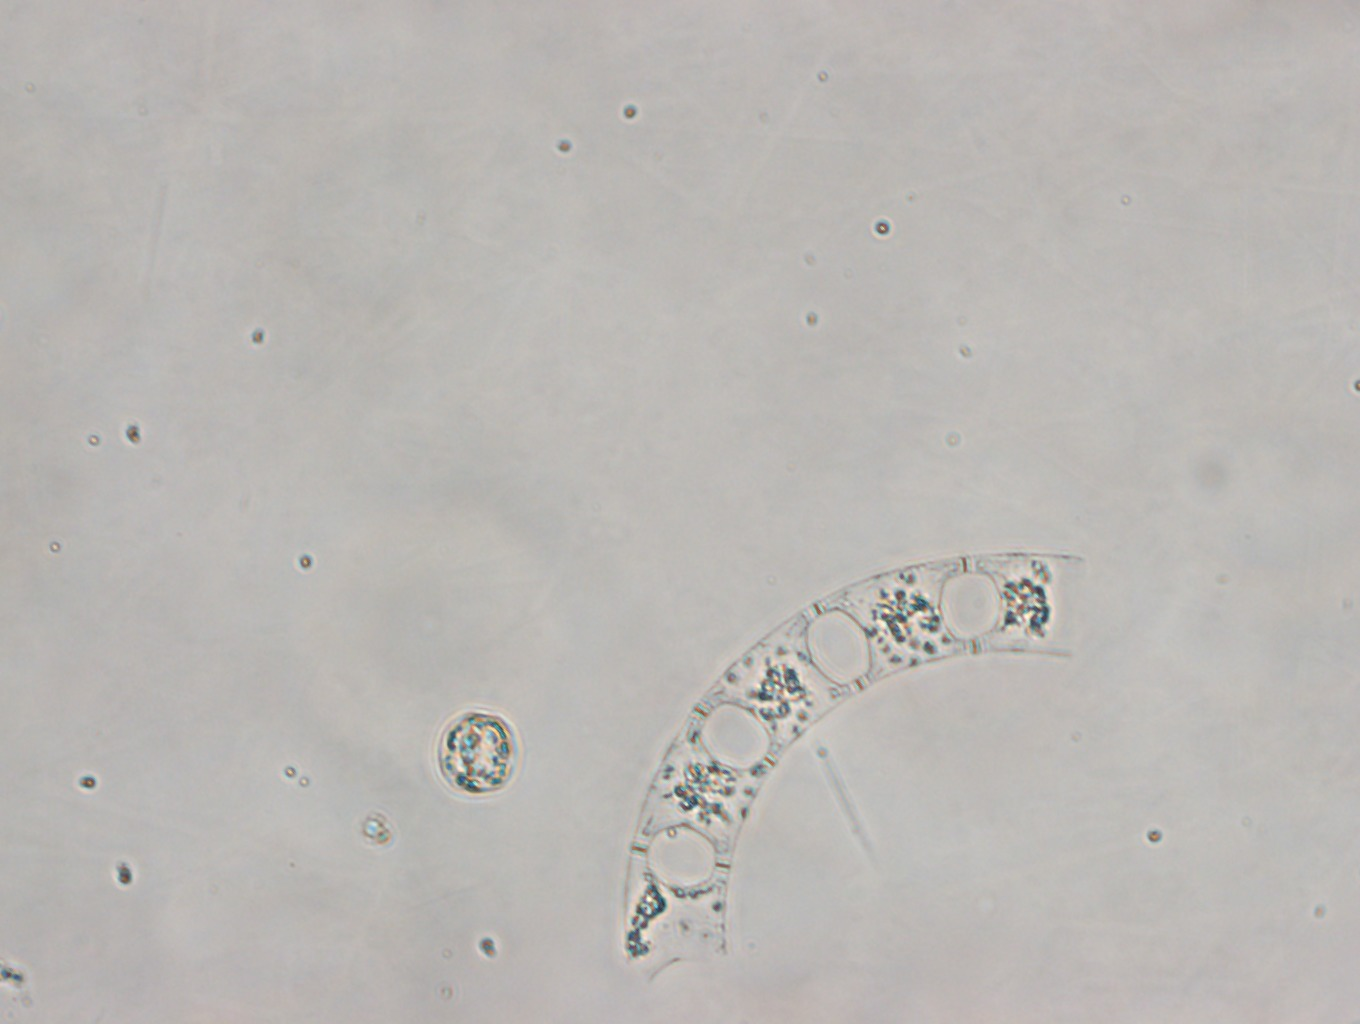eucampia: (622, 553, 1086, 984)
